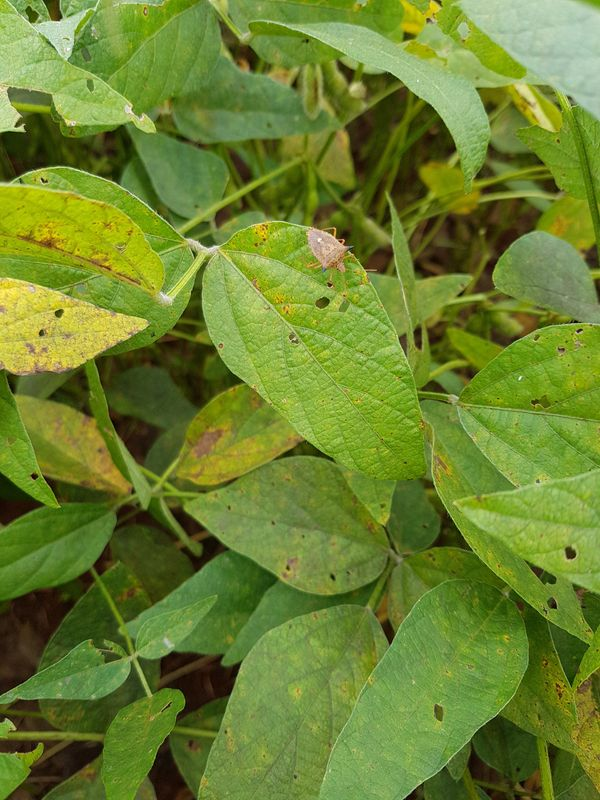Euschistus_heros_adulto: (285, 220, 371, 292)
